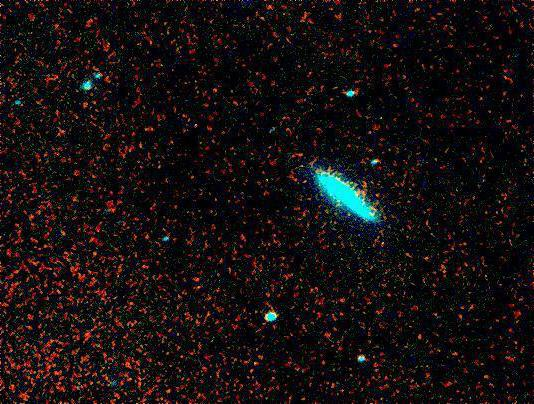star: (334, 202, 364, 232)
